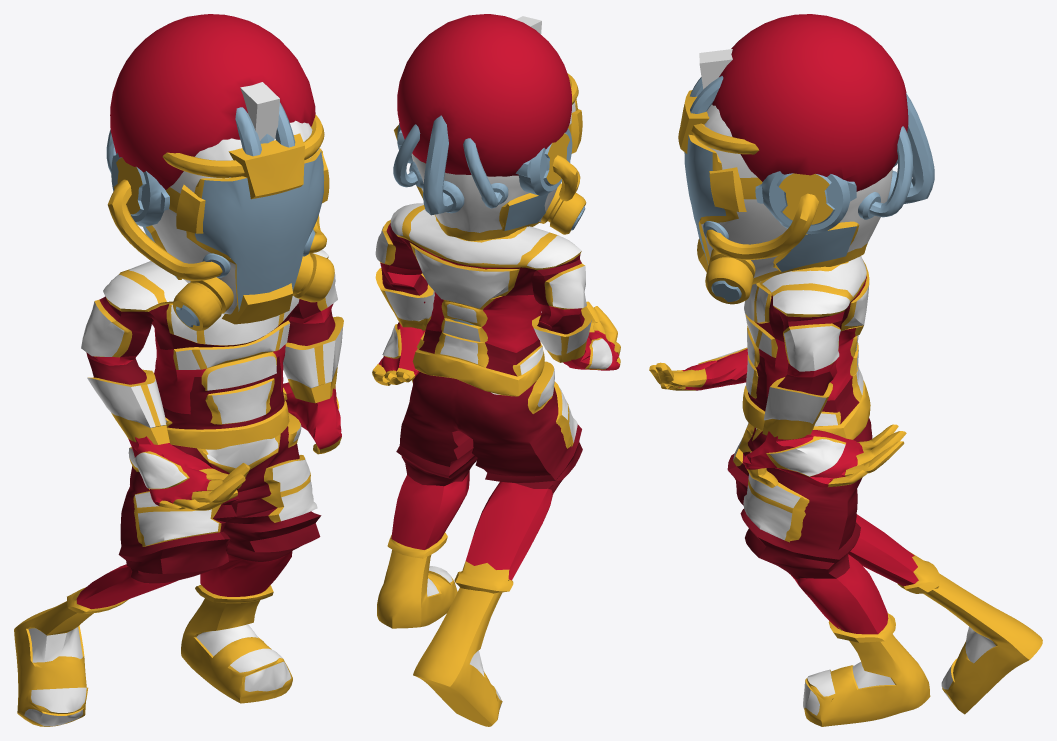
Rendered from av-piloto-kart.glb.
3 renders of one model, left to right at view 1: azimuth 30°, elevation 25°; view 2: azimuth 150°, elevation 25°; view 3: azimuth 270°, elevation 25°, orthographic. The views are drawn at different scales.
Visible parts, largest first — view 1: Ad_capacete_integral_0_0; view 2: Ad_capacete_integral_0_0; view 3: Ad_capacete_integral_0_0.
Boxes of the visible parts, box(x1,y1,x2,y2) form: Ad_capacete_integral_0_0: box(14, 14, 343, 726); Ad_capacete_integral_0_0: box(372, 14, 620, 726); Ad_capacete_integral_0_0: box(649, 14, 1042, 726).
Size of the model in its own units: 0.5542 by 1.58 by 0.7831.
1 material, 1 textured.
